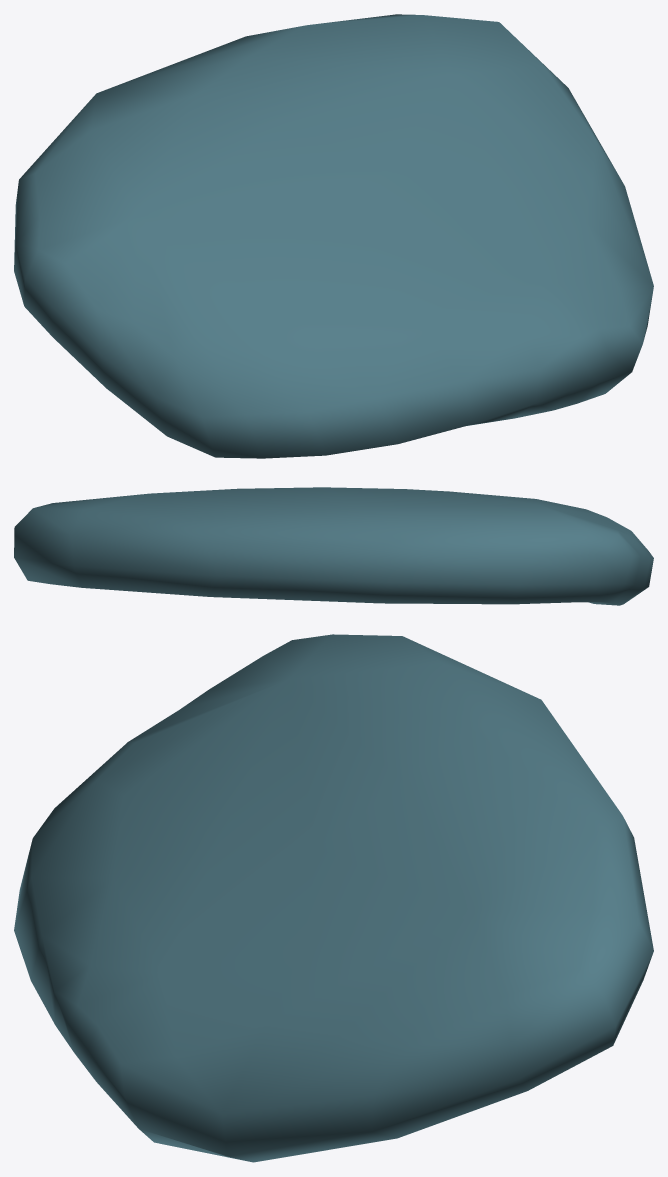
The model's file is Extensor_digitorum_longus_&_brevis_on_2d_distal_phalanx.l_Gener.glb.
3 views of the same model, one above another, from view 1: azimuth 30°, elevation 25°; view 2: azimuth 150°, elevation 25°; view 3: azimuth 270°, elevation 25° (orthographic). The views are drawn at different scales.
Visible parts, largest first — view 1: Extensor_digitorum_longus_&_brevis_on_2d_distal_phalanx.l_Ge; view 2: Extensor_digitorum_longus_&_brevis_on_2d_distal_phalanx.l_Ge; view 3: Extensor_digitorum_longus_&_brevis_on_2d_distal_phalanx.l_Ge.
Part boxes in pixels (left/top/right/bottom): Extensor_digitorum_longus_&_brevis_on_2d_distal_phalanx.l_Ge: left=14, top=14, right=653, bottom=458; Extensor_digitorum_longus_&_brevis_on_2d_distal_phalanx.l_Ge: left=14, top=487, right=653, bottom=605; Extensor_digitorum_longus_&_brevis_on_2d_distal_phalanx.l_Ge: left=14, top=634, right=653, bottom=1162.
Bounding box in the file's own units: 0.00353 × 0.00135 × 0.00281.
